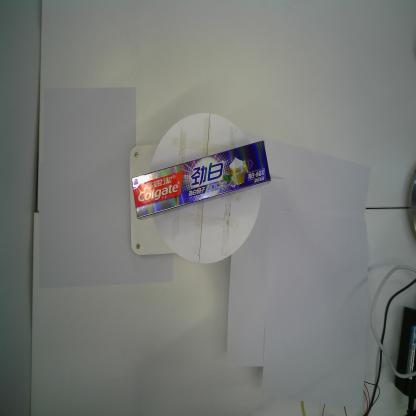Personal Hygiene: (131, 138, 271, 219)
